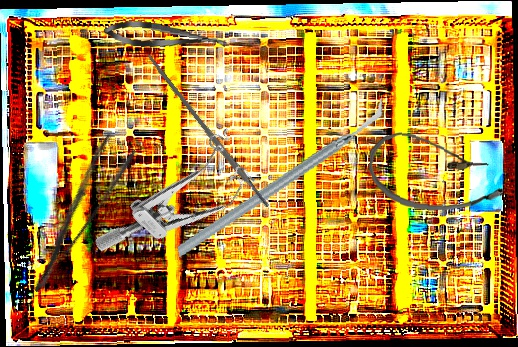Cannula: (366, 129, 507, 216)
Chopper: (156, 96, 405, 258)
Dressing Forceps: (8, 131, 140, 295)
Micro Scissor: (103, 17, 227, 56)
Scalpel Handle: (144, 52, 271, 210)
Speculum: (90, 114, 271, 297)
